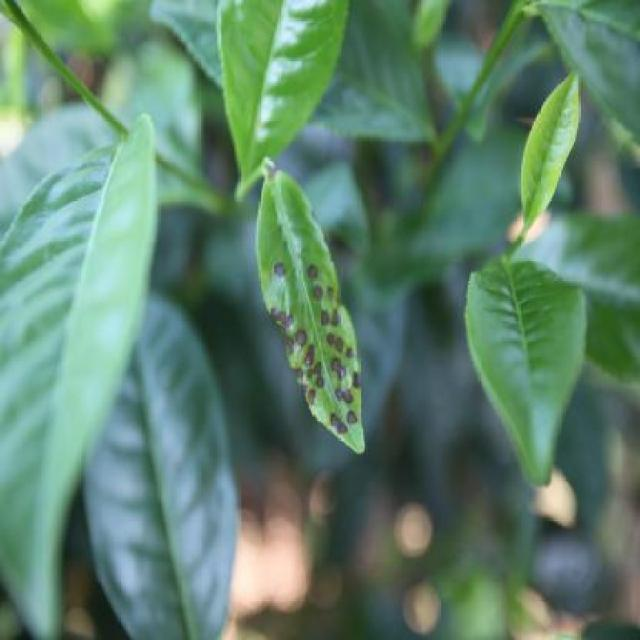Tea Mosquito bug infested leaf: (254, 198, 386, 451)
